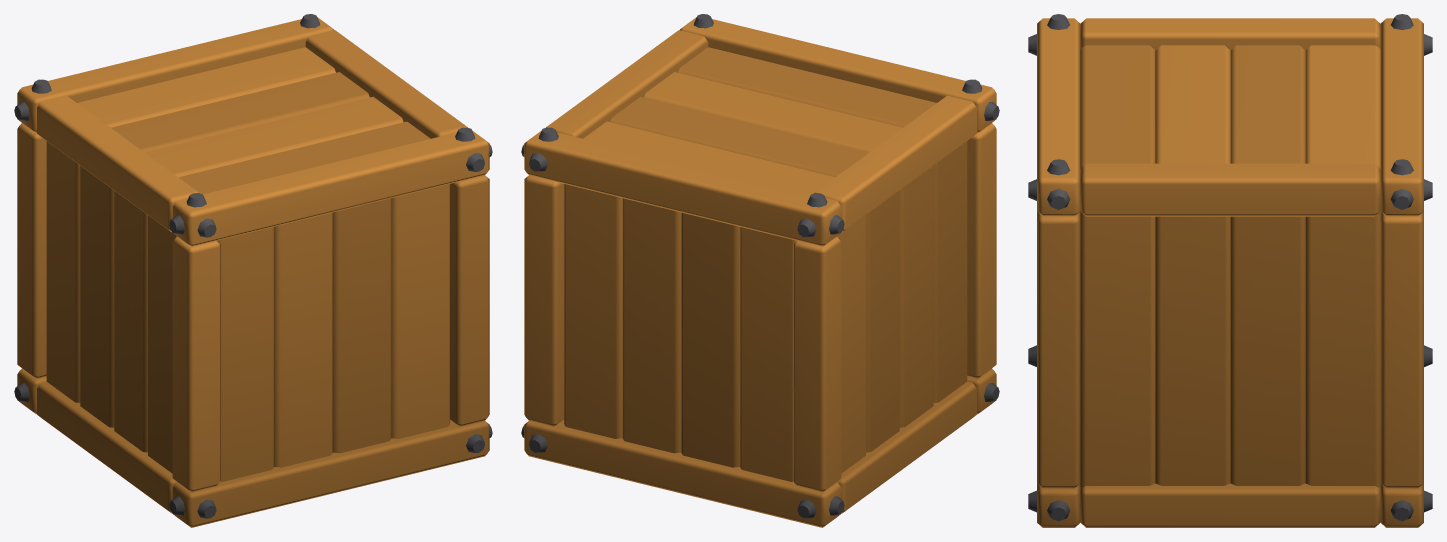
File: wood_crate.glb
3 renders of one model, left to right at view 1: azimuth 30°, elevation 25°; view 2: azimuth 150°, elevation 25°; view 3: azimuth 270°, elevation 25°, orthographic. The views are drawn at different scales.
Visible parts, largest first — view 1: wood_crate; view 2: wood_crate; view 3: wood_crate.
Part boxes in pixels (box(x1,y1,x2,y2)): wood_crate: box(14, 14, 492, 527); wood_crate: box(521, 14, 999, 527); wood_crate: box(1028, 14, 1432, 527).
Bounding box in the file's own units: 0.836 × 0.818 × 0.836.
